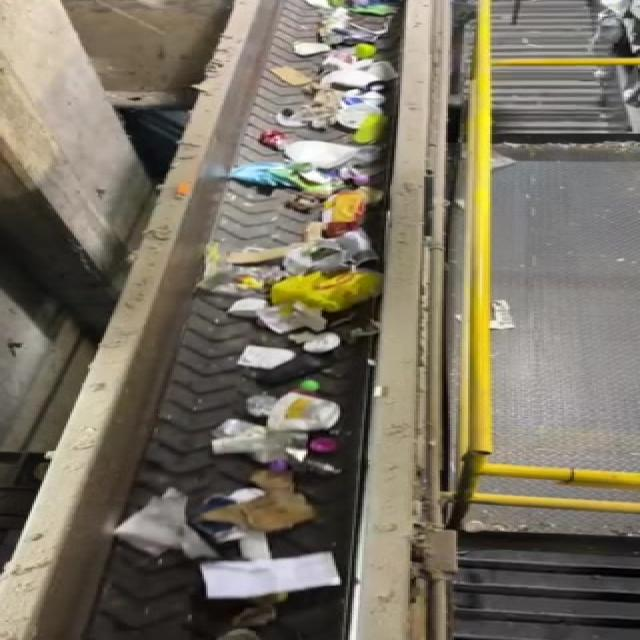paper: (200, 536, 360, 605), (208, 476, 354, 536), (117, 479, 213, 568)
pp: (188, 429, 364, 479), (233, 380, 363, 432)
